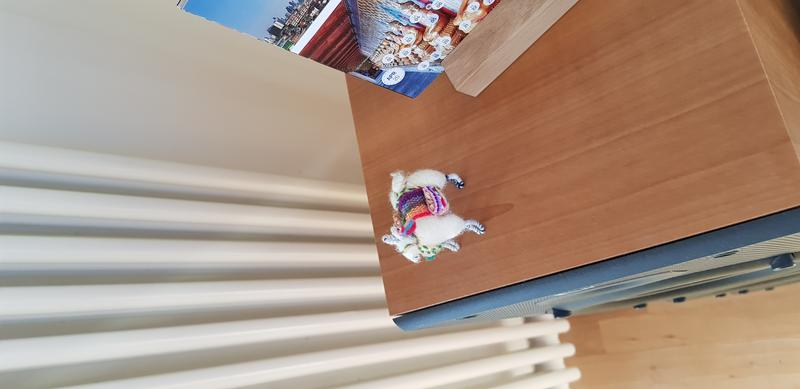Horse-Toy: (368, 162, 494, 280)
